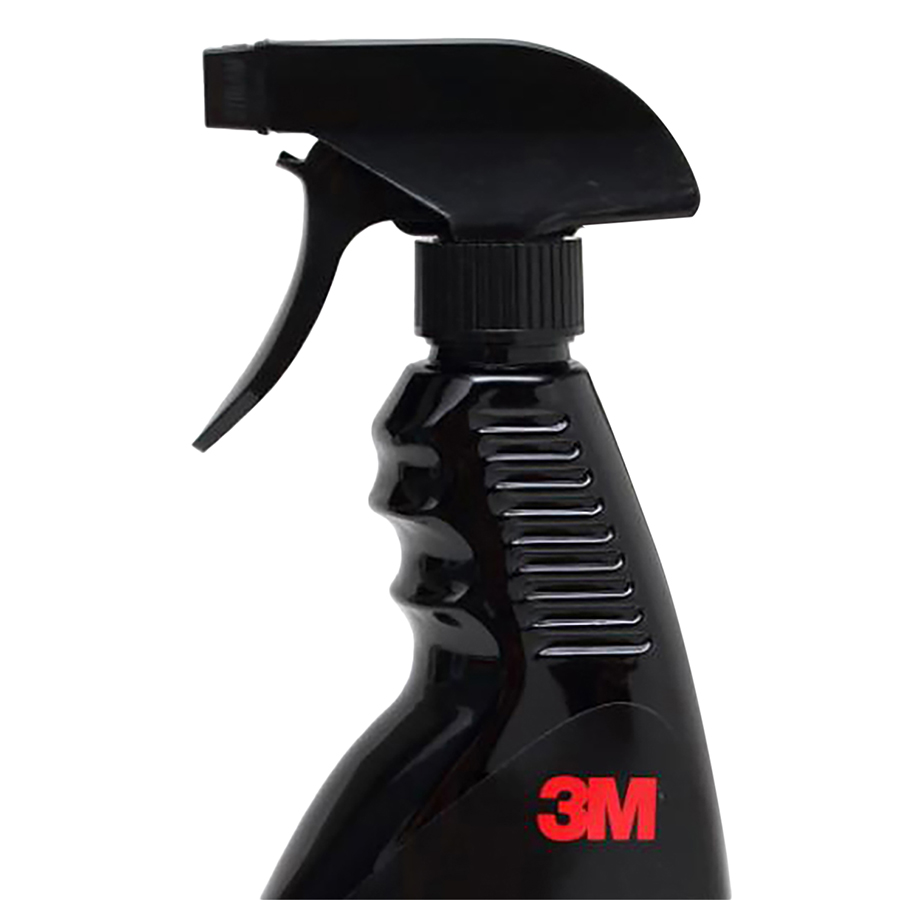3M: (533, 765, 661, 853)
